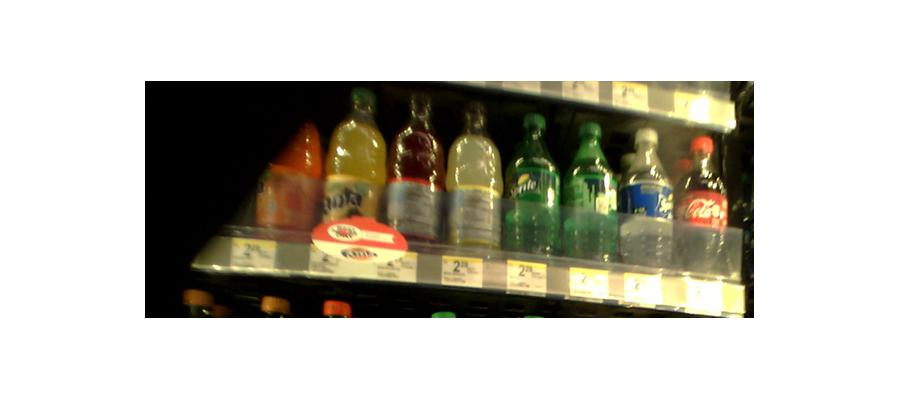bottle: (324, 87, 385, 250), (254, 99, 322, 240), (445, 102, 500, 255), (388, 90, 441, 245), (505, 110, 560, 259), (563, 121, 618, 265), (619, 127, 673, 269), (677, 135, 725, 274)
